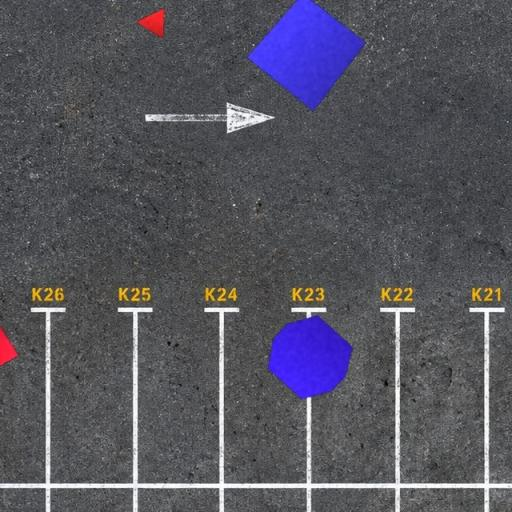BLUE_SQUARE: (246, 0, 366, 112)
RED_SQUARE: (0, 318, 19, 376)
